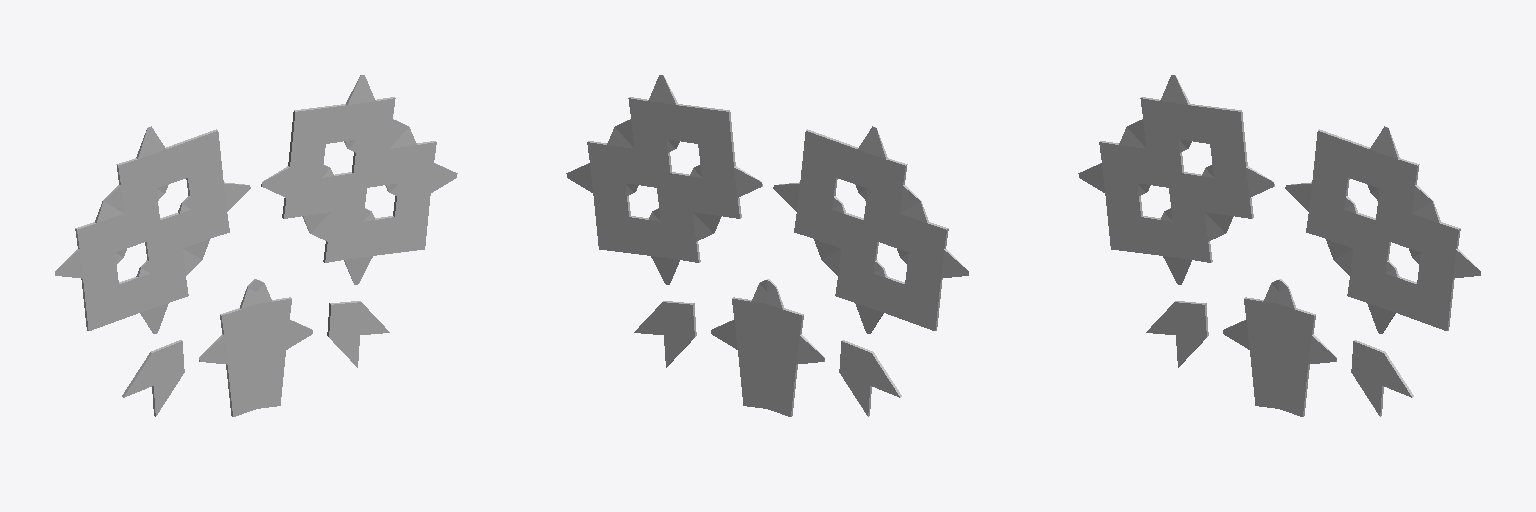
Rendered from ImageSign_012.obj.
3 renders of one model, left to right at view 1: azimuth 30°, elevation 25°; view 2: azimuth 150°, elevation 25°; view 3: azimuth 330°, elevation 25°, orthographic.
Parts seen in each view (by area): view 1: ImageSign_011; view 2: ImageSign_011; view 3: ImageSign_011.
Part boxes in pixels (x1,y1,x2,y2): ImageSign_011: (55,75,457,416); ImageSign_011: (566,75,968,416); ImageSign_011: (1078,75,1480,416).
Size of the model in its own units: 815 by 600 by 6.41.